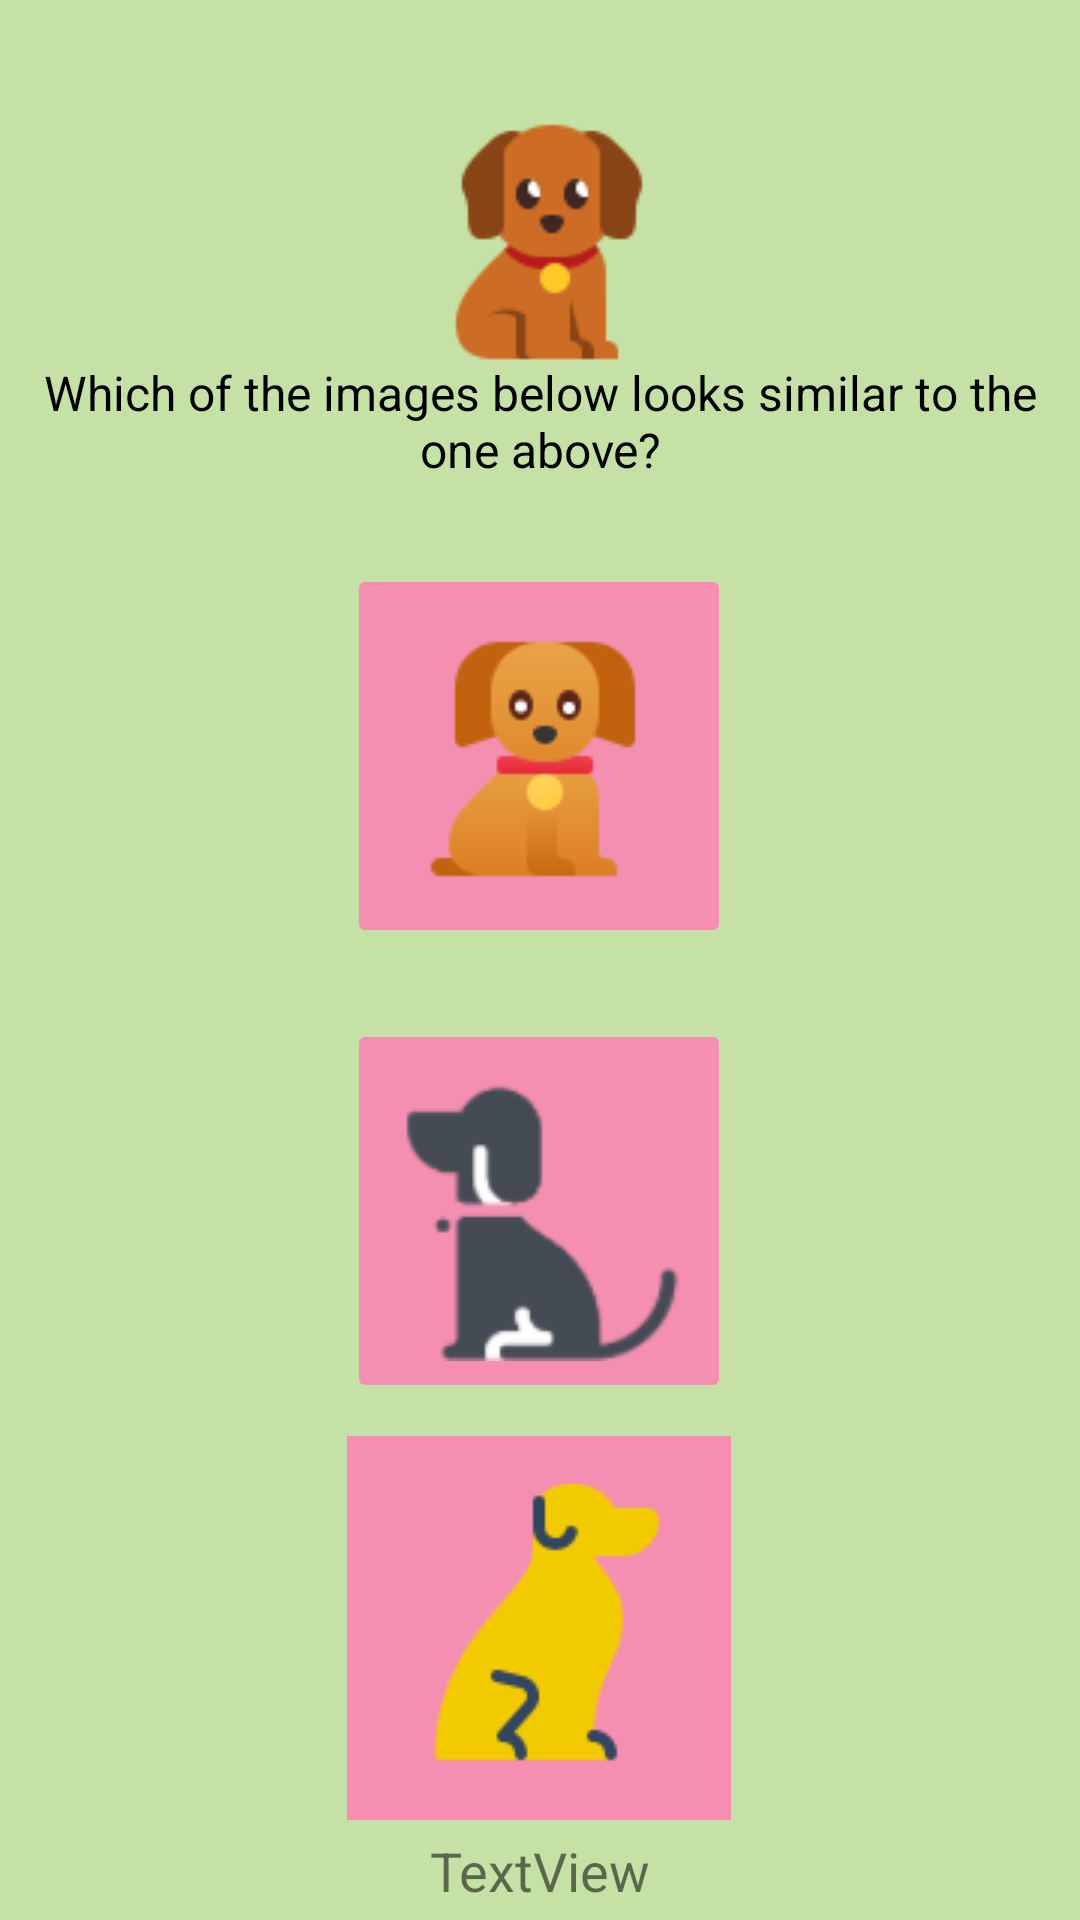

Point at icon controls on the screen. Image size 1080*1920, points as [x,y].
dogcorrect: [539,756]
dogquest: [549,242]
